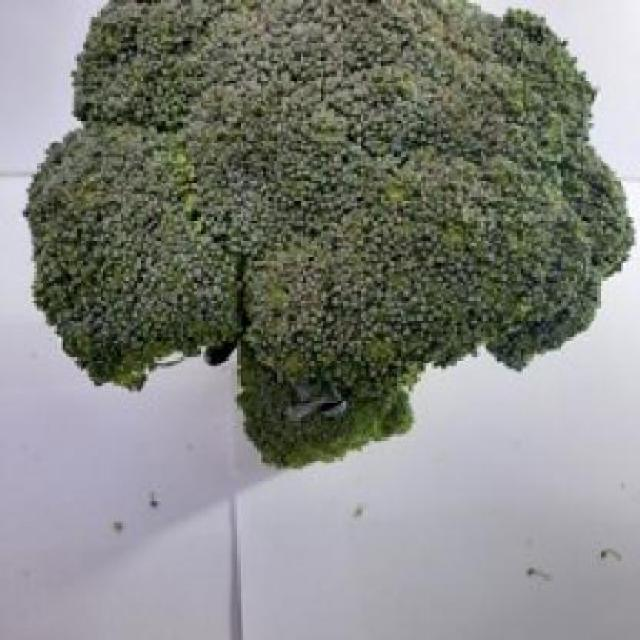broccoli: (33, 2, 627, 476)
